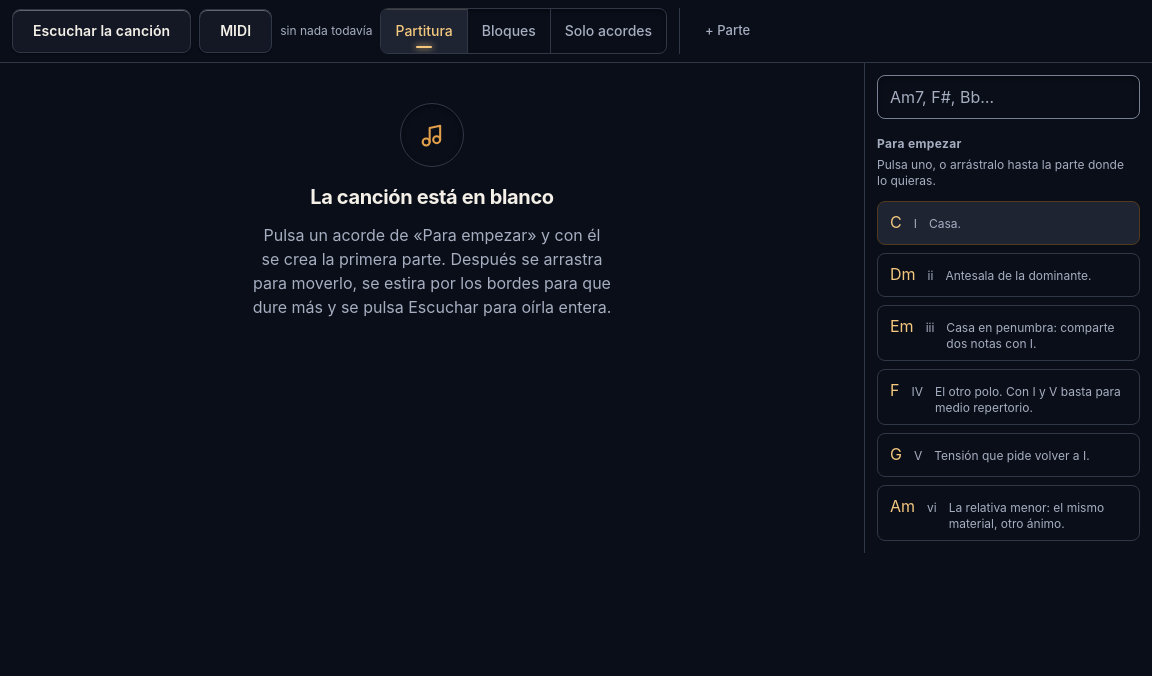
Test case: montar › lo que se propone sale del último acorde puesto
expect the heading "Para empezar" is shown: met, box [877,136,962,151]
Click the button "C I Casa.".
click(945, 224)  # box [877,201,1140,245]
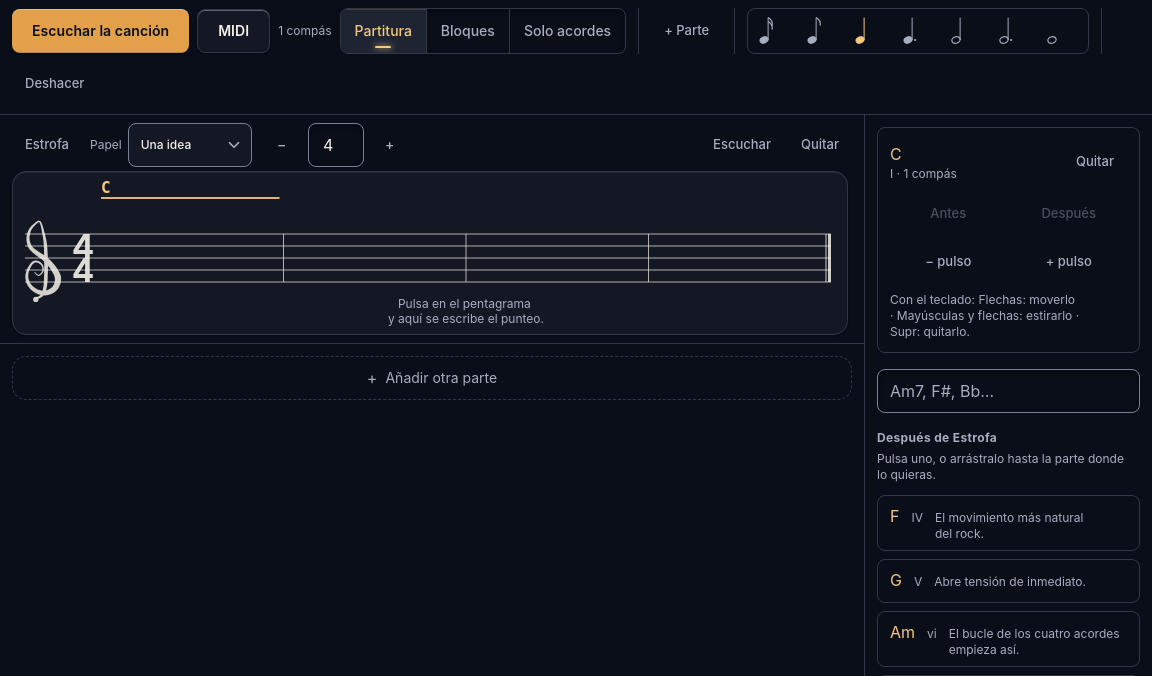
expect the heading "Después de Estrofa" is shown: met, box [877,430,997,445]
